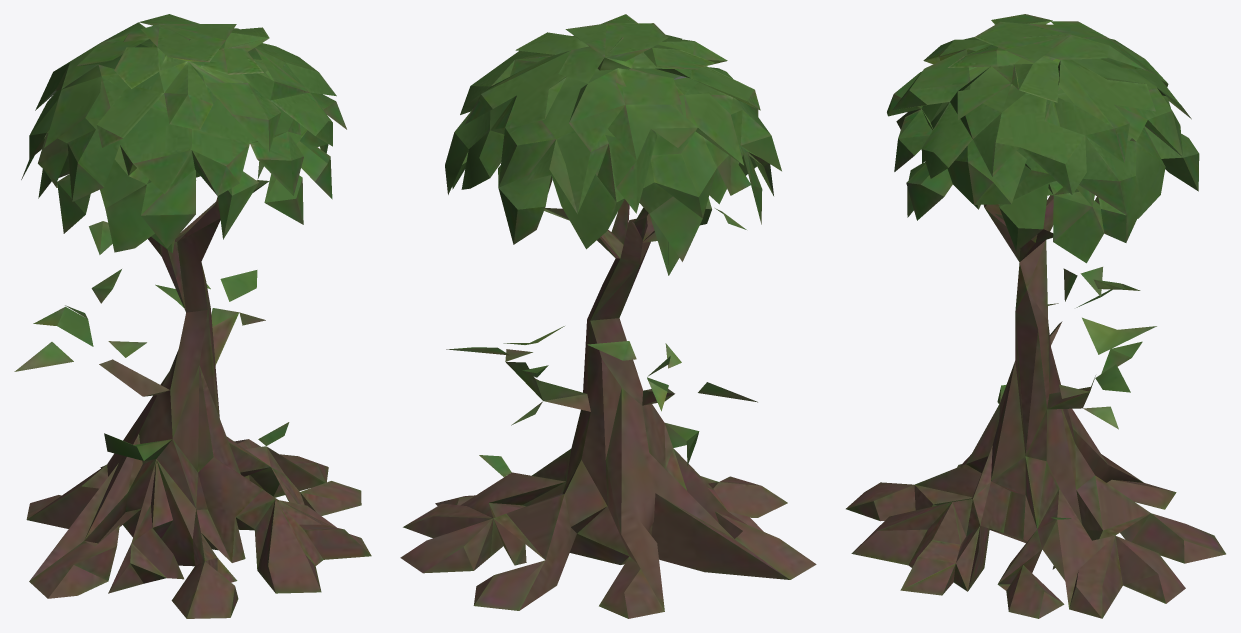
Rendered from waterTree.glb.
3 renders of one model, left to right at view 1: azimuth 30°, elevation 25°; view 2: azimuth 150°, elevation 25°; view 3: azimuth 270°, elevation 25°, orthographic.
Size of the model in its own units: 1.36 by 1.88 by 1.31.
1 material, 1 textured.
